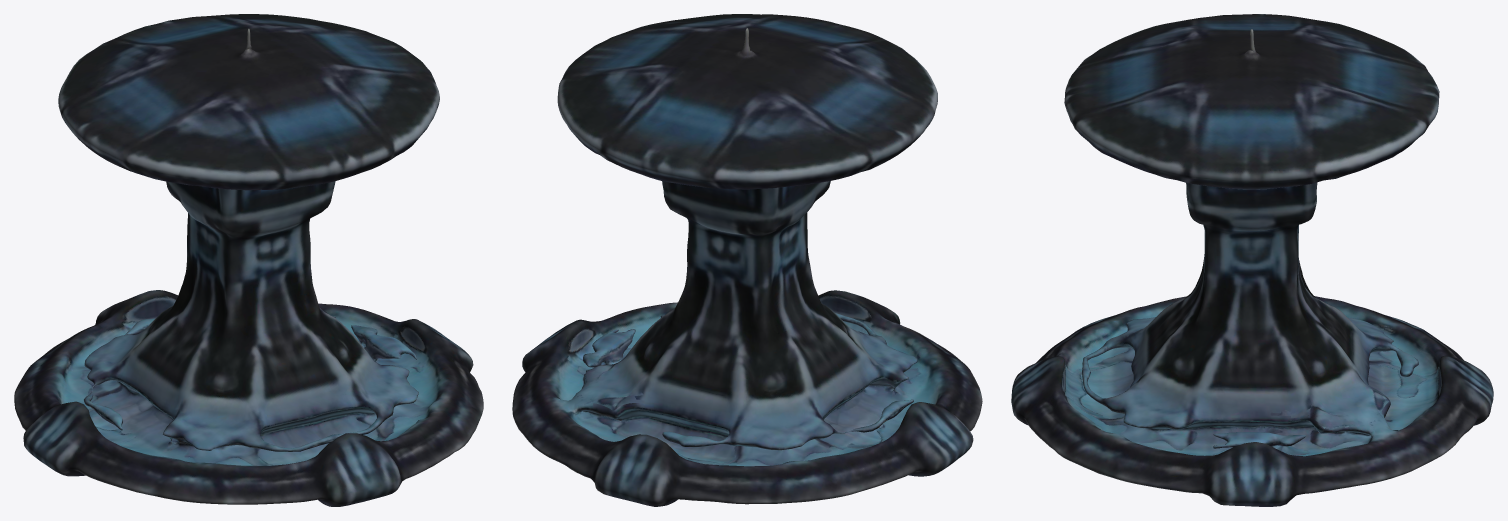
The model's file is 029d2556035a_an_alien_technology.fbx.
3 renders of one model, left to right at view 1: azimuth 30°, elevation 25°; view 2: azimuth 150°, elevation 25°; view 3: azimuth 270°, elevation 25°, orthographic.
Parts seen in each view (by area): view 1: mesh; view 2: mesh; view 3: mesh.
Boxes of the visible parts, x1,y1,x2,y2 form: mesh: (14, 14, 483, 506); mesh: (512, 14, 982, 506); mesh: (1011, 14, 1493, 506).
Bounding box in the file's own units: 99.47 × 88.67 × 99.64.
